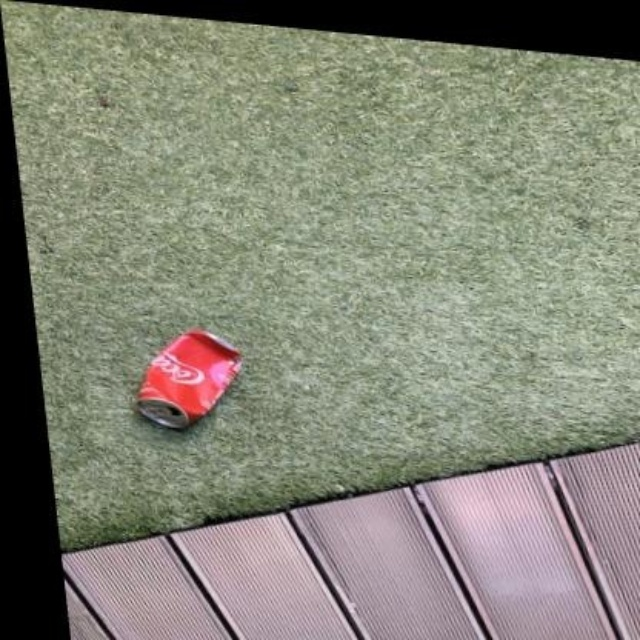trash: (137, 329, 240, 428)
